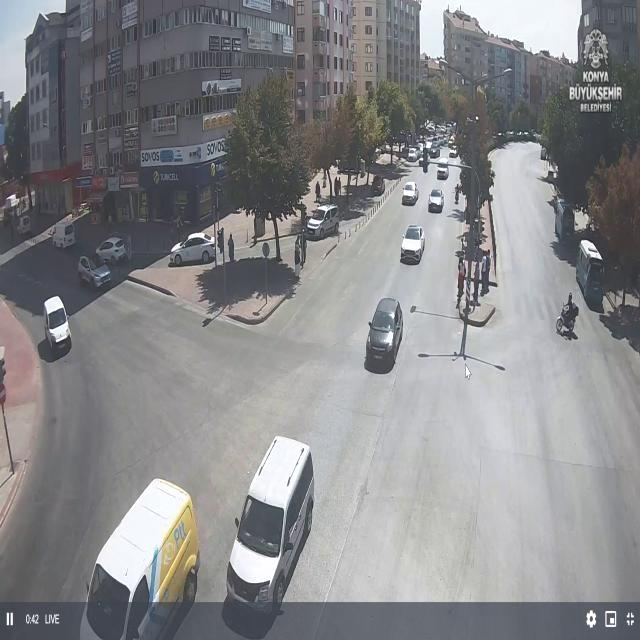Bus: (575, 239, 606, 310), (552, 197, 576, 244)
Car: (226, 436, 320, 618), (365, 298, 404, 367), (42, 295, 72, 355), (168, 232, 216, 266), (304, 203, 340, 239), (78, 254, 112, 288), (94, 236, 130, 265), (400, 224, 426, 263), (402, 182, 419, 204), (428, 189, 444, 211), (16, 215, 32, 236), (436, 162, 449, 180), (407, 148, 419, 162), (429, 144, 440, 158), (449, 146, 458, 158)
Cycle: (554, 304, 580, 332)
Van: (77, 478, 203, 640), (50, 221, 76, 250)
